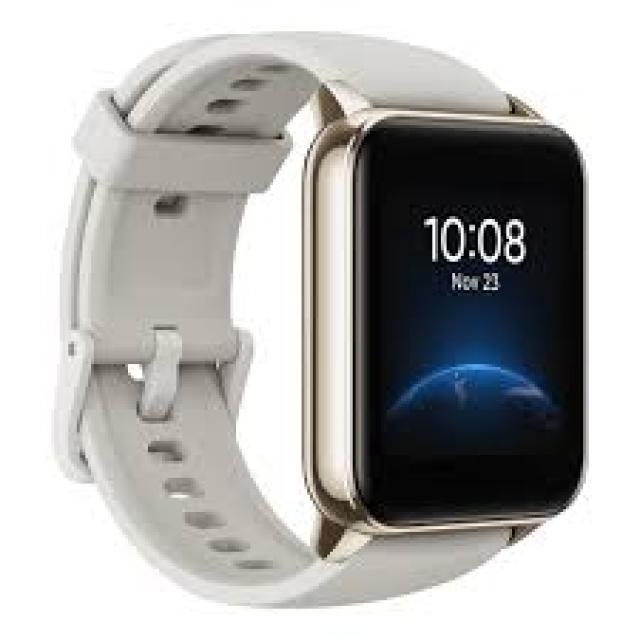objects: (51, 31, 587, 609)
